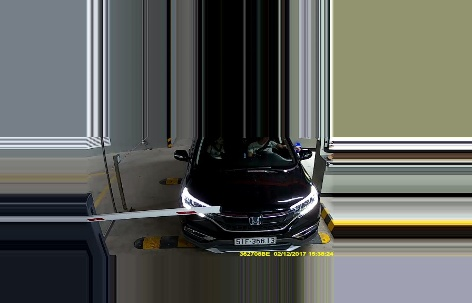plate: (235, 233, 277, 245)
